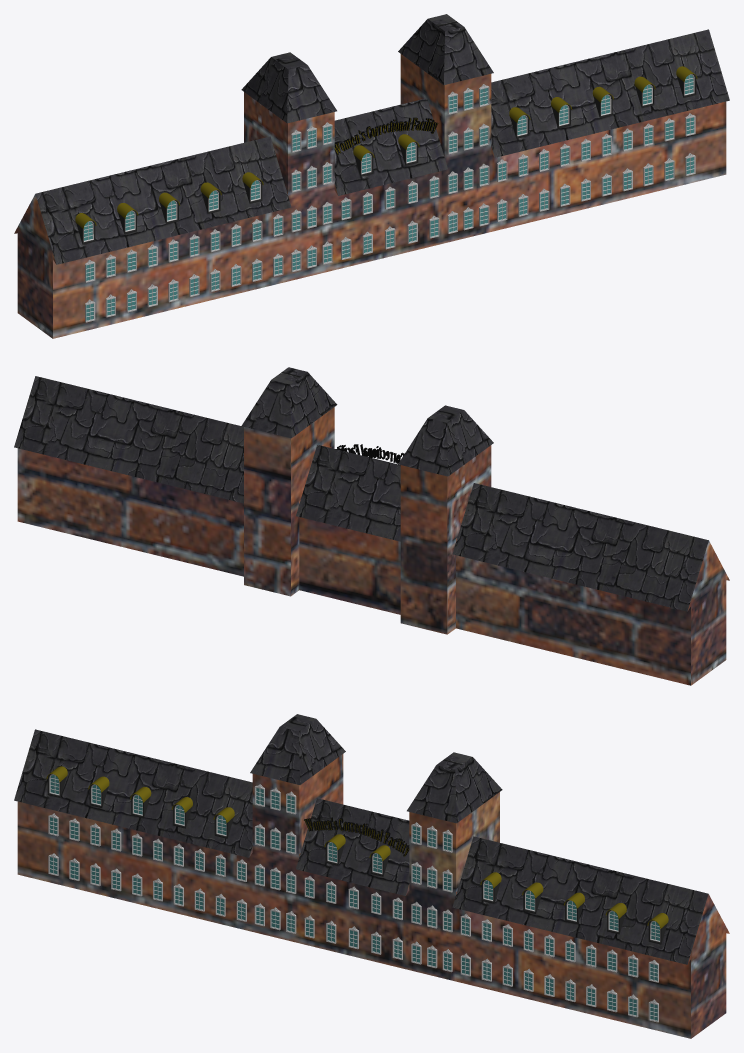
The model's file is Prison 1.obj.
3 renders of one model, top to bottom at view 1: azimuth 30°, elevation 25°; view 2: azimuth 150°, elevation 25°; view 3: azimuth 330°, elevation 25°, orthographic.
Visible parts, largest first — view 1: Mesh; view 2: Mesh; view 3: Mesh.
Part boxes in pixels (bbox=[...]): Mesh: bbox=[14, 14, 729, 338]; Mesh: bbox=[14, 367, 729, 685]; Mesh: bbox=[14, 714, 729, 1038].
Size of the model in its own units: 104 by 29.46 by 13.03.
